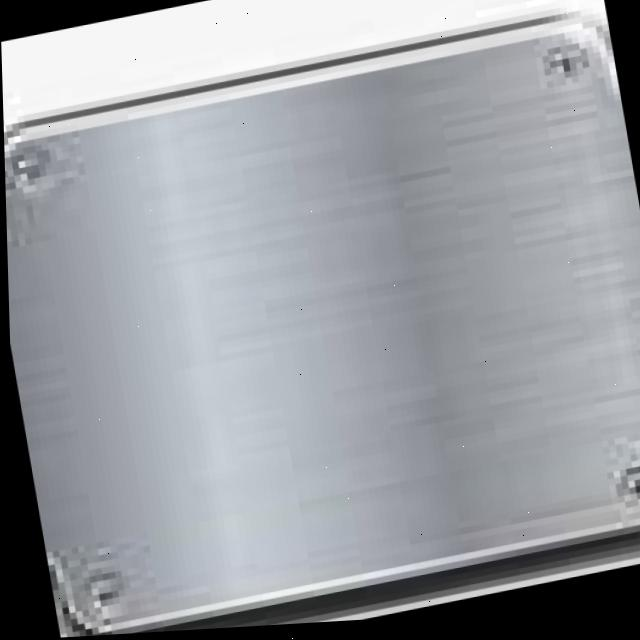Dry: (3, 18, 640, 636)
